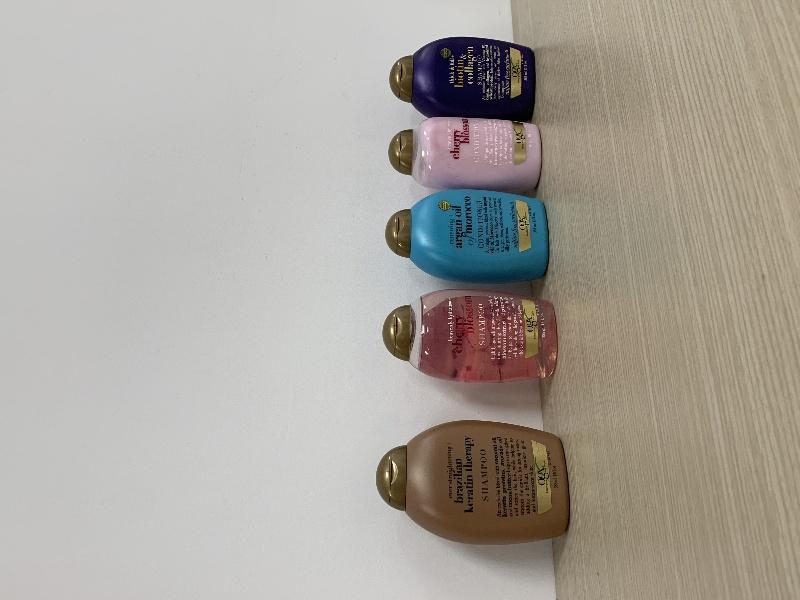ArganOilOfMorocco_Conditioner: (385, 188, 549, 284)
BiotinCollagen_Shampoo: (389, 37, 535, 117)
BrazilianKeratinTherapy_Shampoo: (376, 419, 570, 545)
CherryBlossom_Conditioner: (388, 117, 541, 188)
CherryBlossom_Shampoo: (383, 289, 559, 384)
